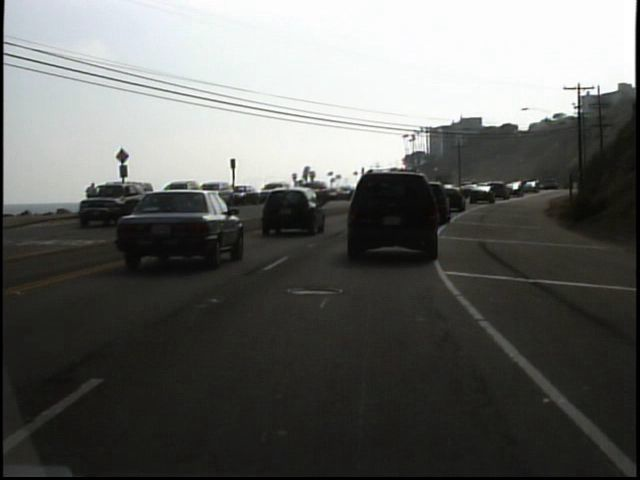person: (83, 178, 102, 218)
